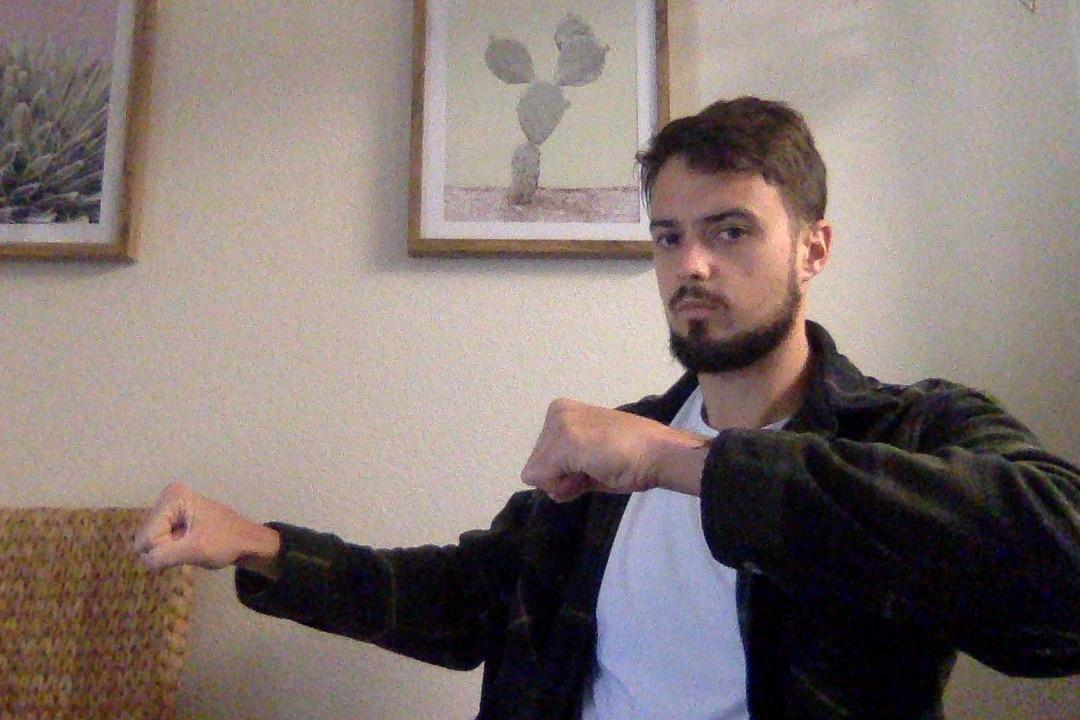Left-Fist: (524, 394, 667, 508), (138, 481, 261, 583)
